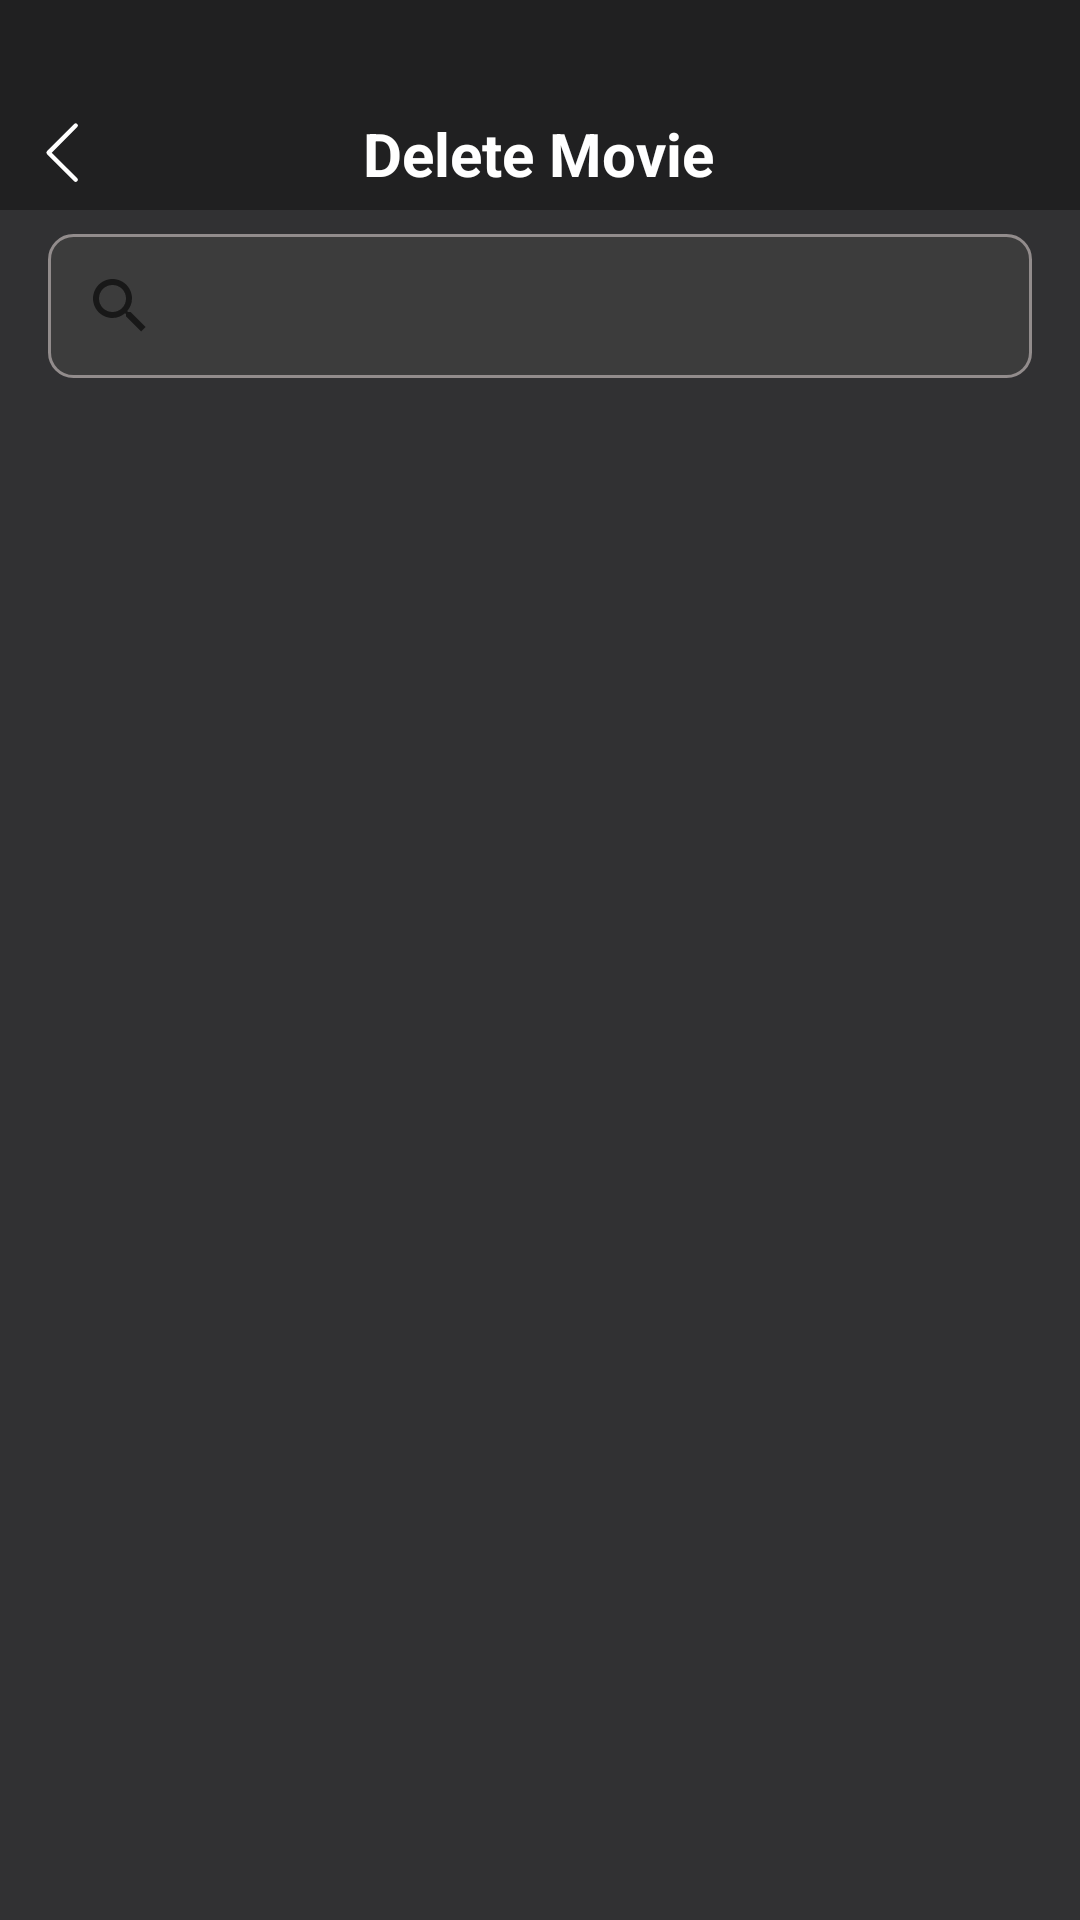

Screen size 1080*1920. Icon name, then its box in pixels as rect(x1, y1, x2, y2):
back: rect(46, 123, 78, 182)
